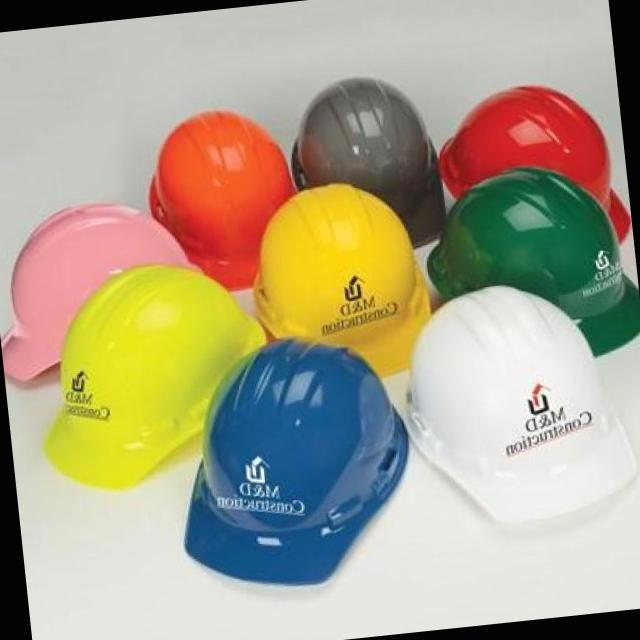helmet: (165, 328, 418, 594), (391, 276, 640, 537), (27, 258, 276, 495), (422, 161, 640, 369), (430, 73, 634, 264), (0, 195, 205, 382), (244, 178, 433, 380), (135, 100, 309, 302), (282, 67, 450, 264)
